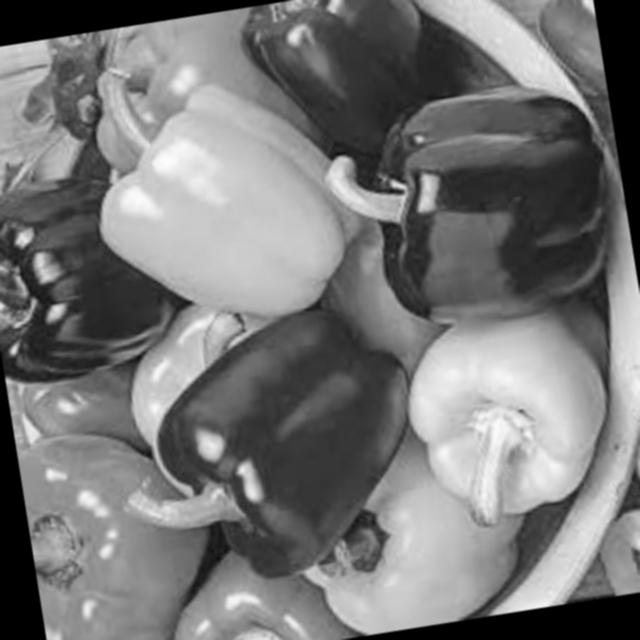bell pepper: (105, 284, 442, 608), (88, 52, 388, 354), (330, 66, 622, 341), (386, 276, 630, 544), (284, 415, 533, 640), (63, 3, 304, 183), (0, 157, 178, 394), (15, 416, 196, 640), (253, 0, 435, 167), (151, 527, 358, 640), (6, 341, 158, 482), (581, 426, 640, 599), (535, 0, 609, 113)
